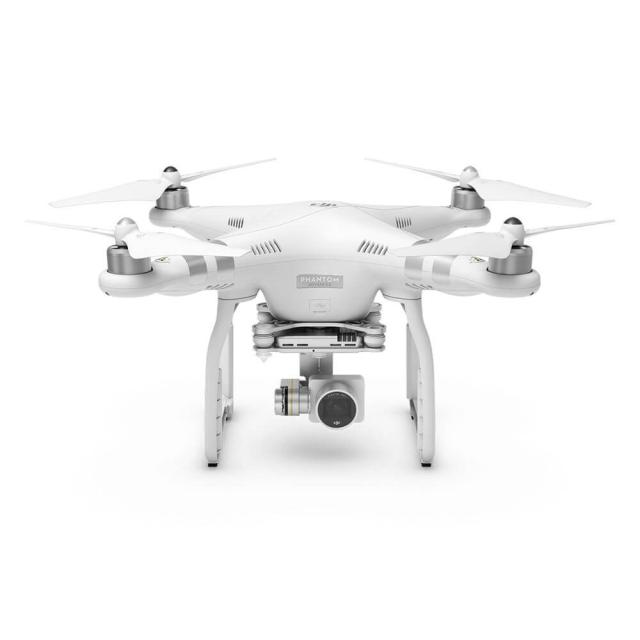drone: (45, 144, 619, 357)
